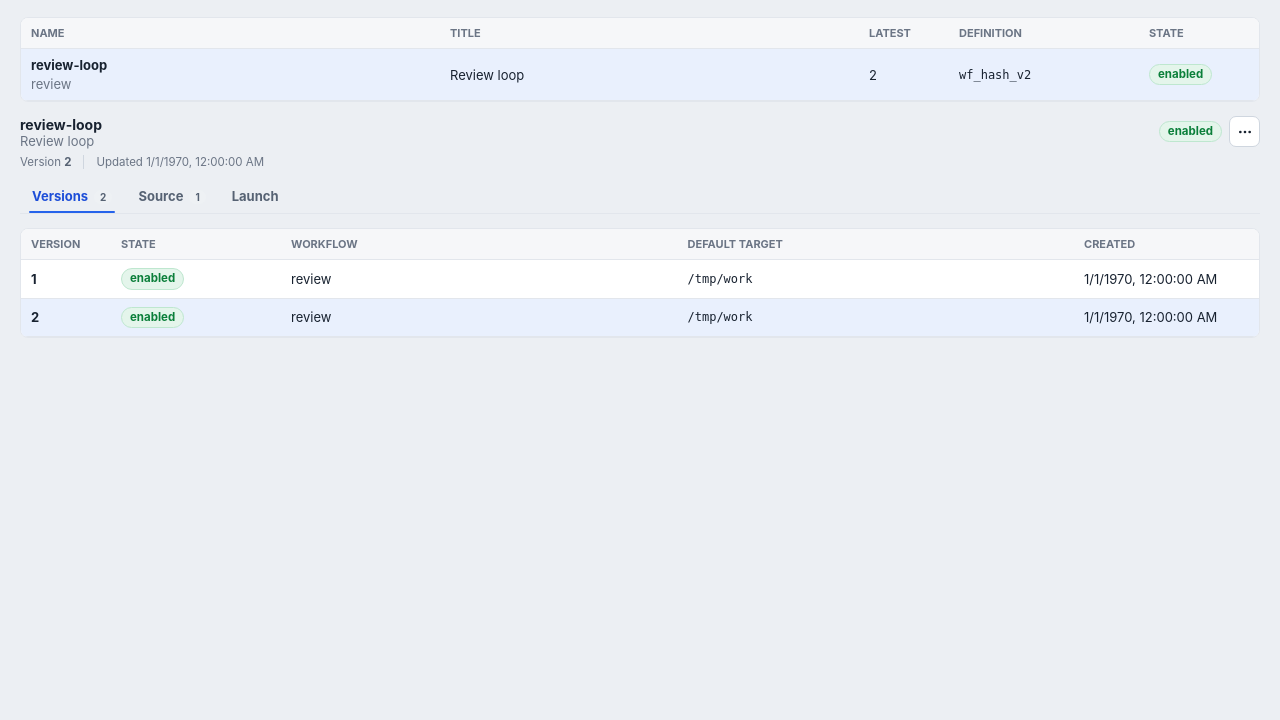
Test: WorkflowsScreen › closes a confirmation and exposes an action failure
Click the button named "Workflow actions": (1244, 132) [1229, 116, 1260, 147]
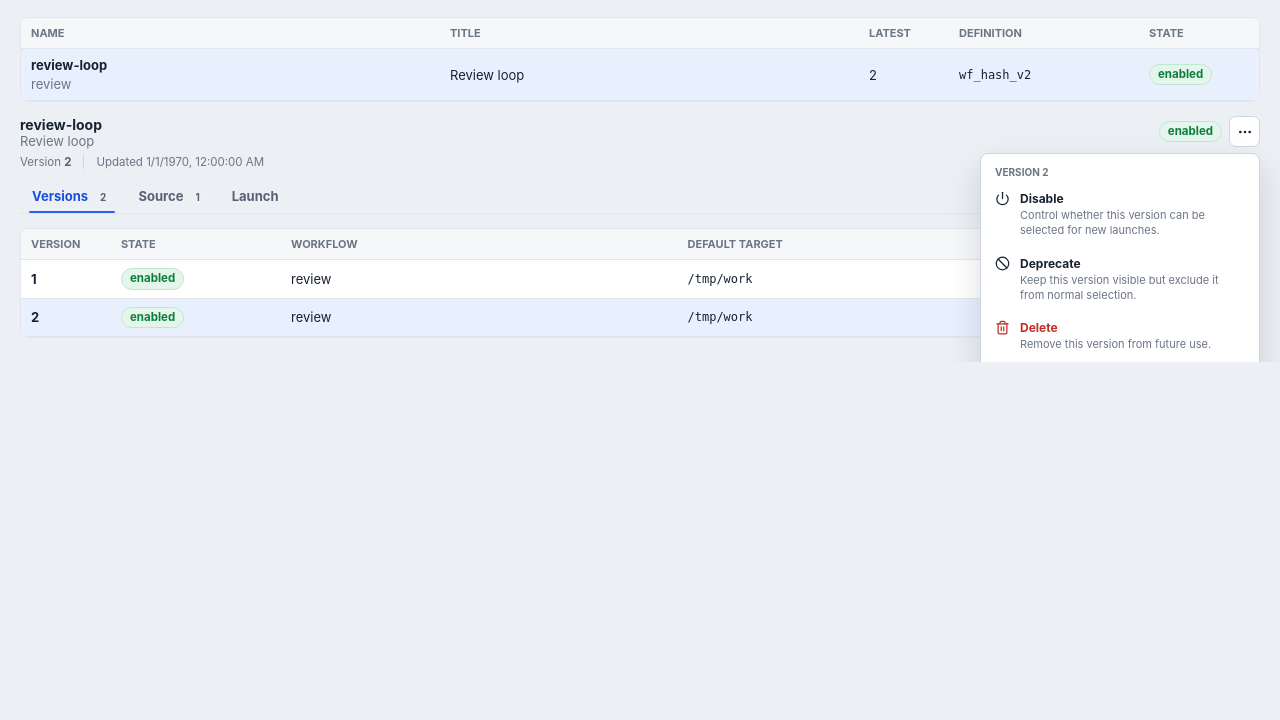
Click the menu item with aria-label "Disable selected version": (1120, 214) [986, 182, 1254, 247]
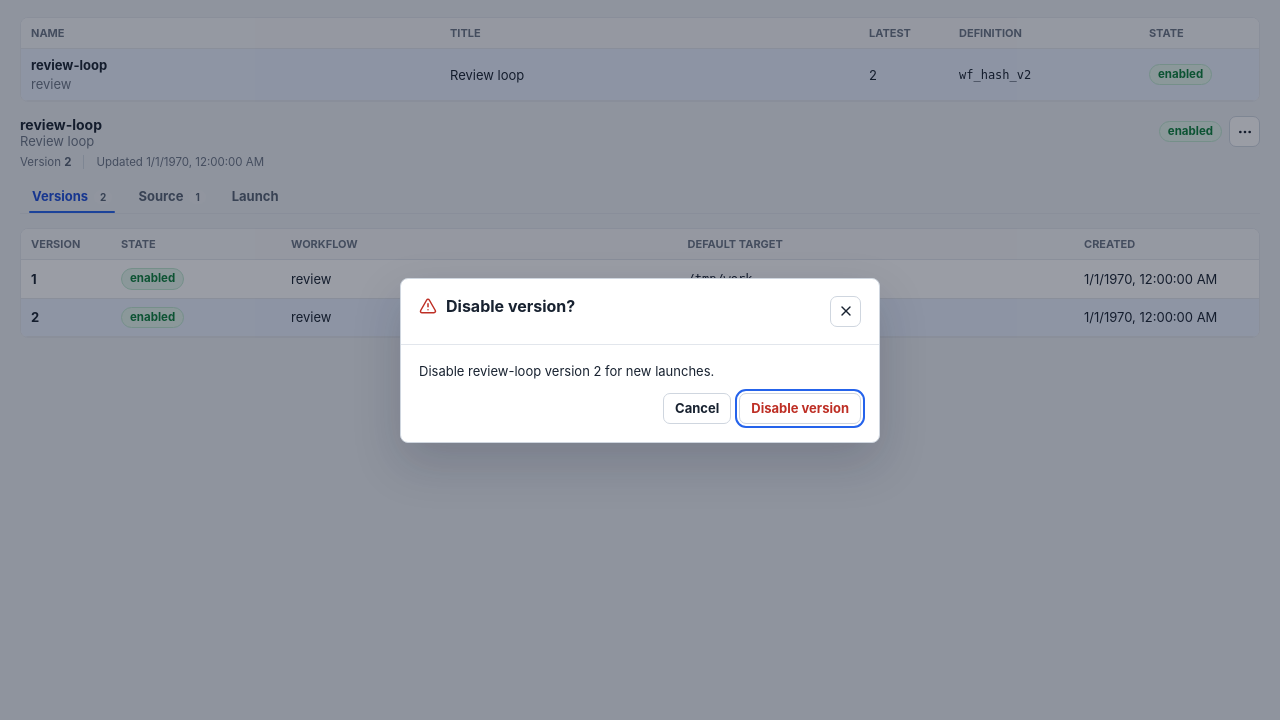
Click the button "Disable version": (800, 408) [739, 392, 861, 424]
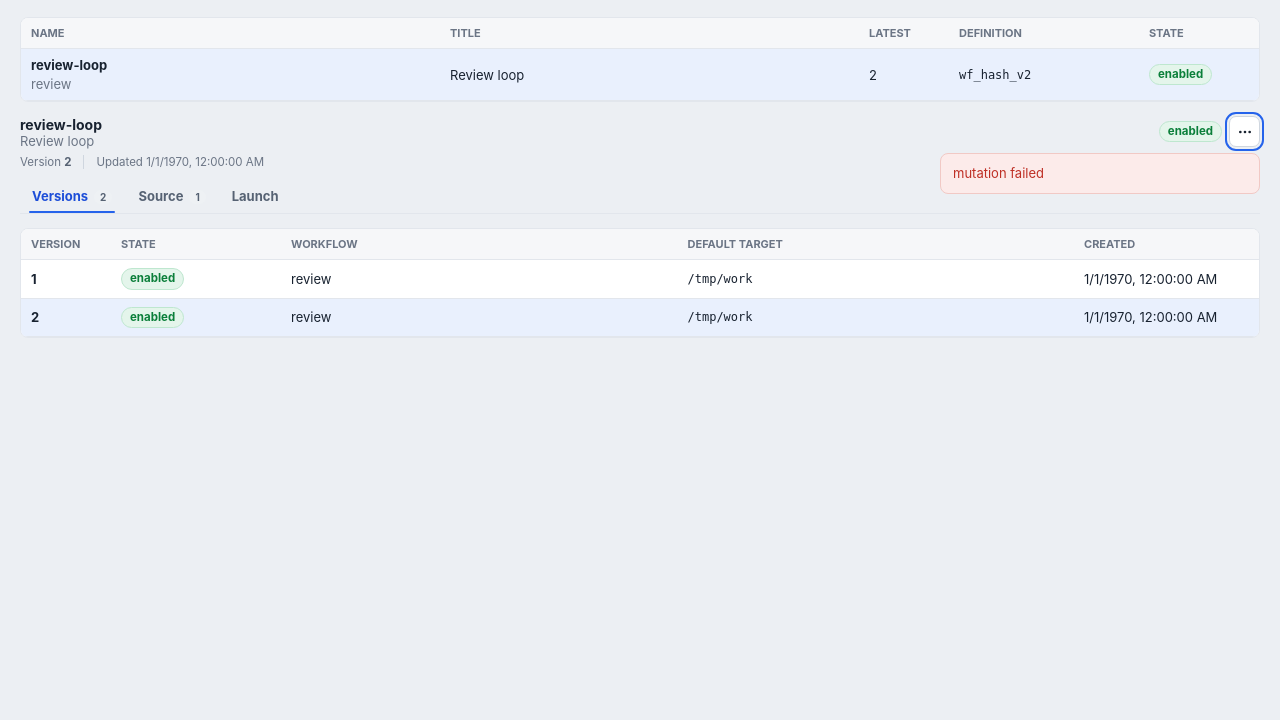
Now the message reads "mutation failed", box [953, 165, 1044, 181]
Now the dialog is gone
